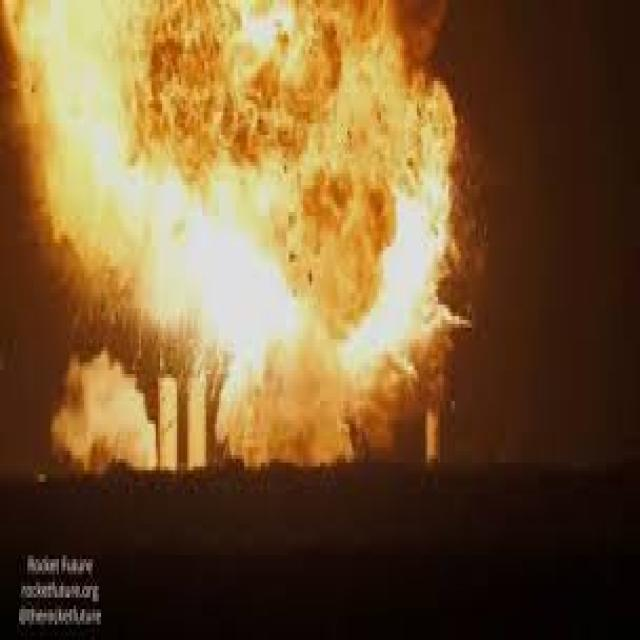explosion: (20, 0, 478, 586)
